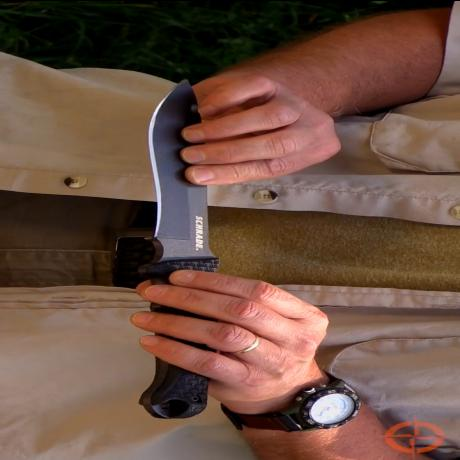1: (0, 4, 460, 460)
weapon: (148, 74, 220, 284)
